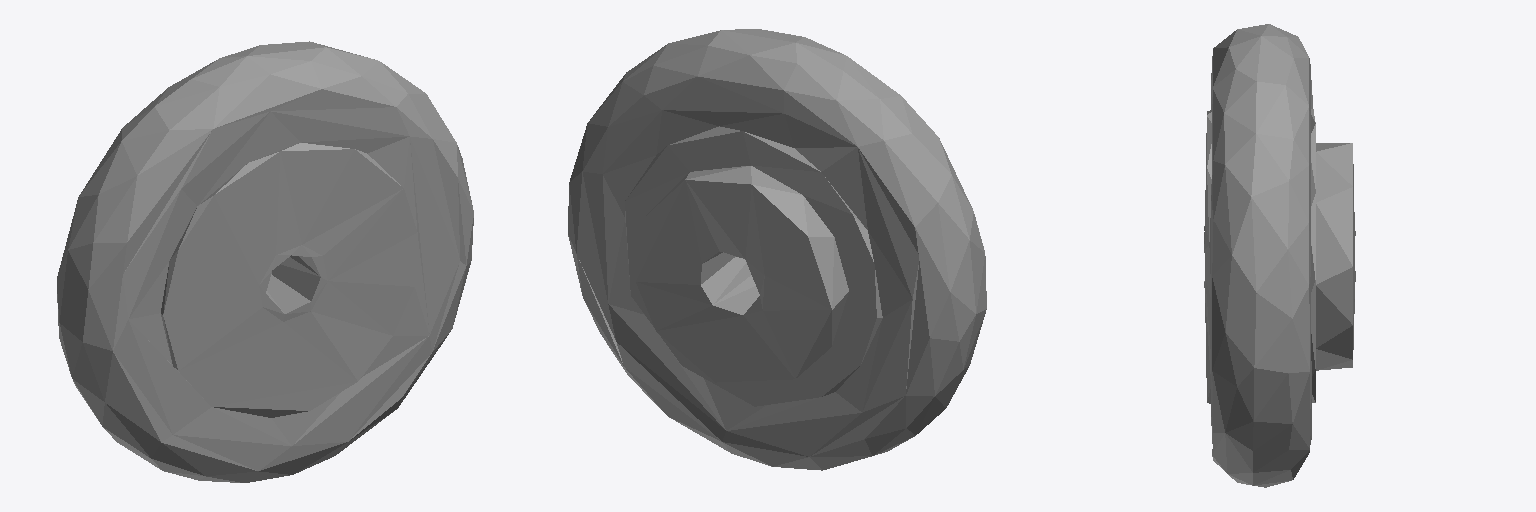
File: bl_caster_l_wheel_link.OBJ
The picture shows the model from 3 angles: view 1: azimuth 30°, elevation 25°; view 2: azimuth 150°, elevation 25°; view 3: azimuth 270°, elevation 25°; orthographic projection.
Parts seen in each view (by area): view 1: /ambf/env/pr2/bl_caster_l_wheel_link_/ambf/env/pr2/bl_caster_l_w; view 2: /ambf/env/pr2/bl_caster_l_wheel_link_/ambf/env/pr2/bl_caster_l_w; view 3: /ambf/env/pr2/bl_caster_l_wheel_link_/ambf/env/pr2/bl_caster_l_w.
Boxes of the visible parts, x1=… form: /ambf/env/pr2/bl_caster_l_wheel_link_/ambf/env/pr2/bl_caster_l_w: x1=57, y1=41, x2=473, y2=482; /ambf/env/pr2/bl_caster_l_wheel_link_/ambf/env/pr2/bl_caster_l_w: x1=568, y1=29, x2=986, y2=470; /ambf/env/pr2/bl_caster_l_wheel_link_/ambf/env/pr2/bl_caster_l_w: x1=1204, y1=24, x2=1355, y2=487.
Size of the model in its own units: 0.1593 by 0.1588 by 0.0515.